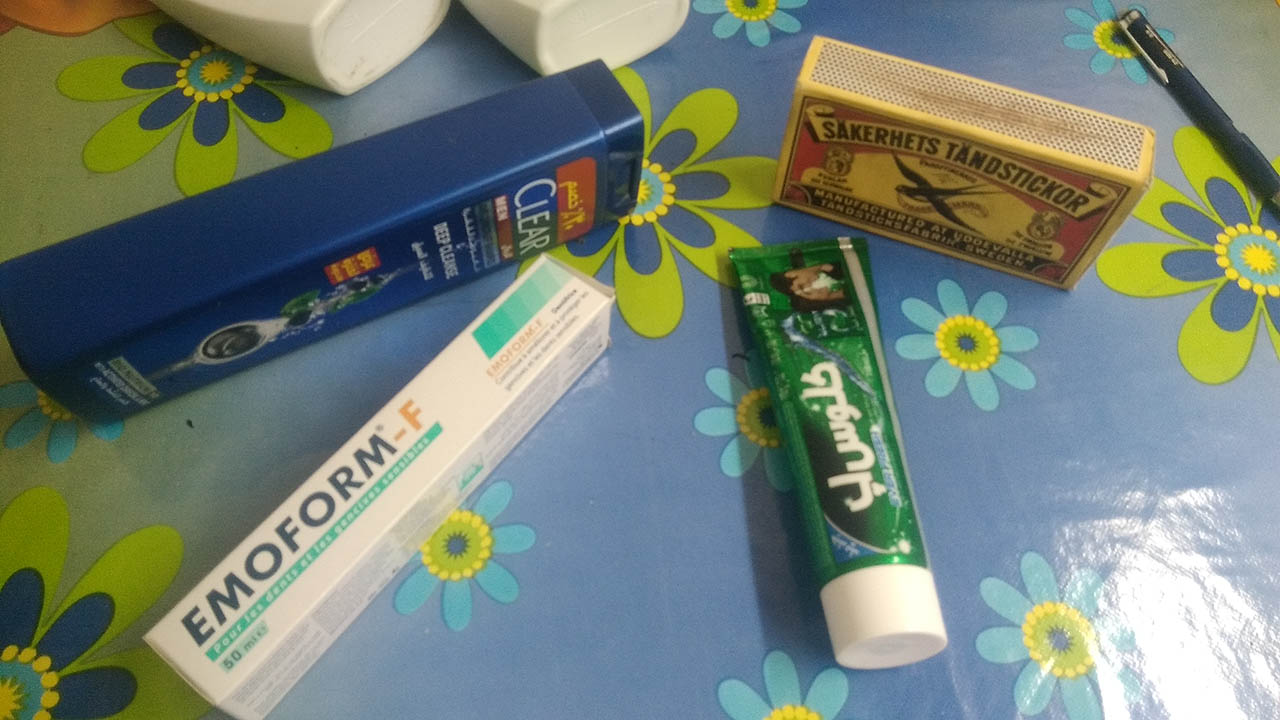Shampoo-Clear 4.7$: (24, 60, 658, 434)
Toothpaste-Closeup 3.04$: (775, 242, 921, 672)
Toothpaste-F 1.5$: (121, 387, 597, 714)
match-sticks .90$: (779, 35, 1161, 278)
